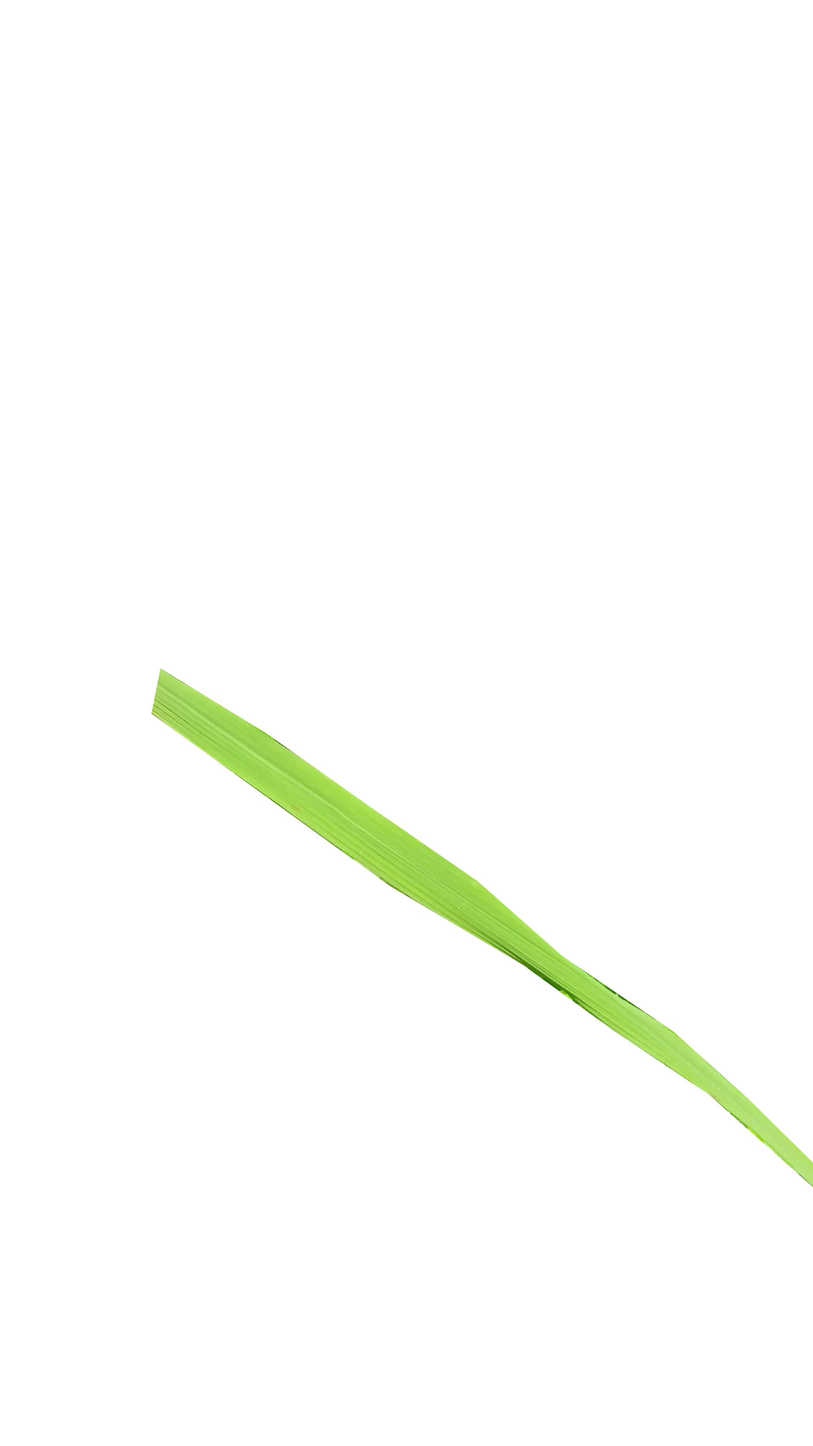Tungro: (148, 669, 813, 1199)
